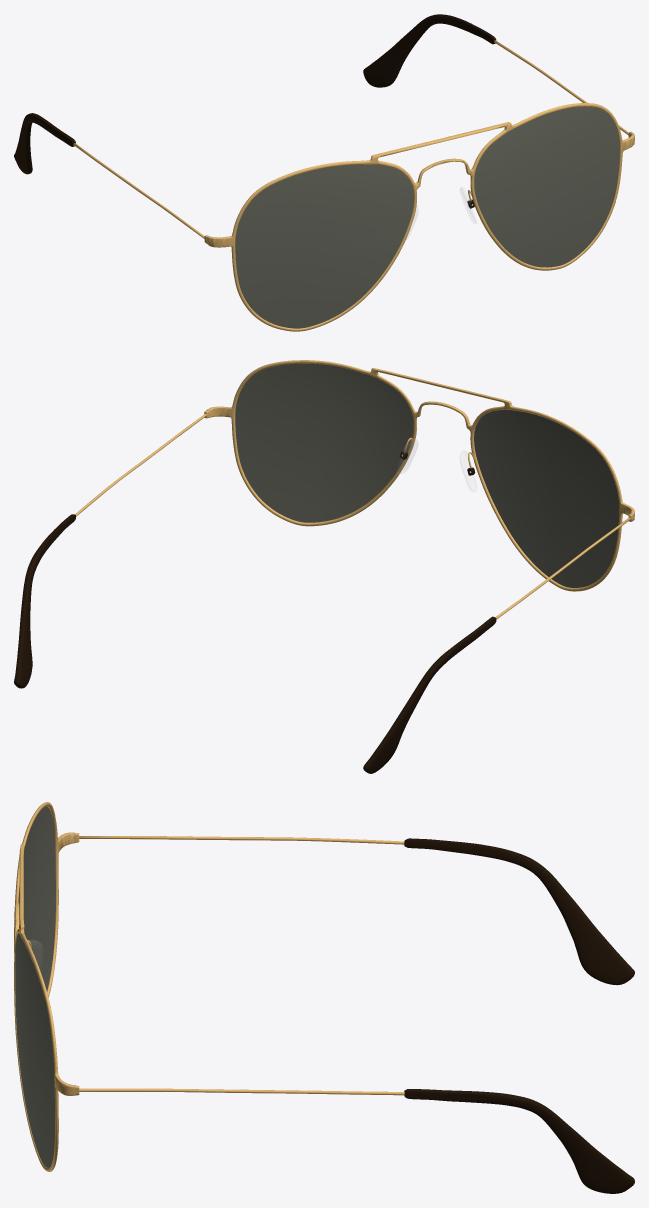
File: oculos de sol.glb
3 views of the same model, one above another, from view 1: azimuth 30°, elevation 25°; view 2: azimuth 150°, elevation 25°; view 3: azimuth 270°, elevation 25° (orthographic). The views are drawn at different scales.
Parts seen in each view (by area): view 1: Aviators_Glass tinted_0, Aviators_Gold metallic_0; view 2: Aviators_Glass tinted_0, Aviators_Gold metallic_0, Aviators_Transparent_0; view 3: Aviators_Gold metallic_0, Aviators_Glass tinted_0.
Boxes of the visible parts, x1,y1,x2,y2 form: Aviators_Glass tinted_0: (235, 106, 619, 328); Aviators_Gold metallic_0: (14, 14, 634, 331); Aviators_Glass tinted_0: (235, 363, 619, 587); Aviators_Gold metallic_0: (14, 360, 634, 773); Aviators_Transparent_0: (397, 439, 476, 491); Aviators_Gold metallic_0: (14, 802, 634, 1193); Aviators_Glass tinted_0: (15, 806, 55, 1167).
Bounding box in the file's own units: 13.96 × 5.22 × 14.4.
3 materials, 3 textured.
